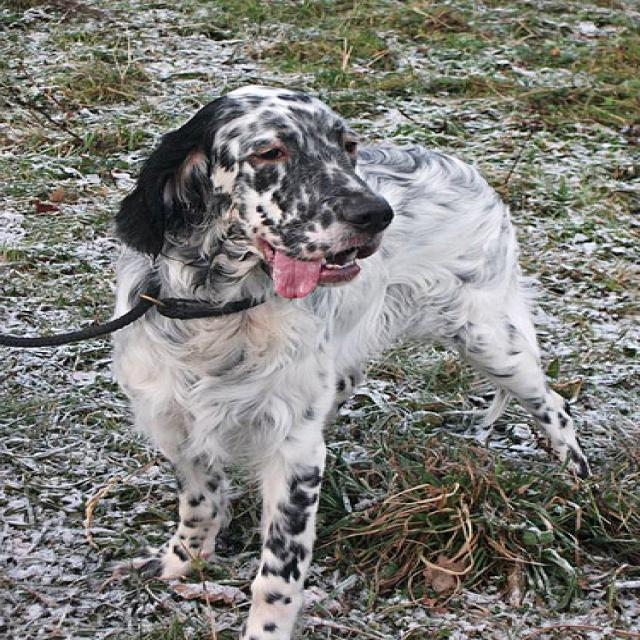dog-english_setter: (96, 74, 601, 637)
